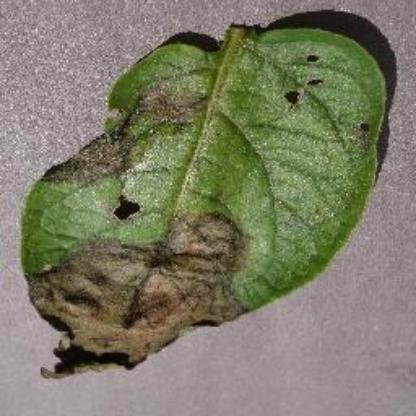Late-Blight: (19, 19, 393, 383)
